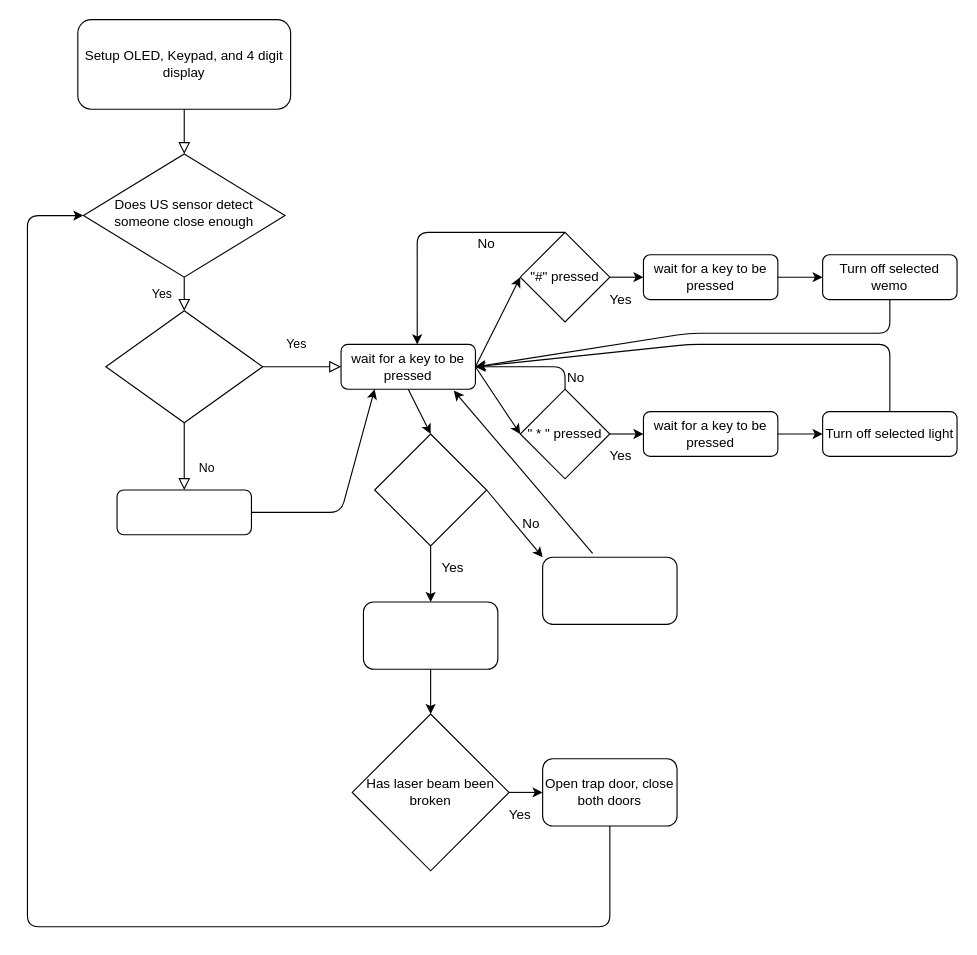
Image size: 977x955. Some labels were removed from this diagram. Here are the shapes that lost their labels. From the top down, the box of each, then its label:
(105, 310, 263, 423): Have they been welcomed?
(374, 433, 487, 546): Code correct?
(116, 489, 251, 535): Set lights to green, turn on wemo, and laser
(542, 556, 677, 624): Set light to red
(362, 601, 498, 669): Open door, rotate to selected candy
